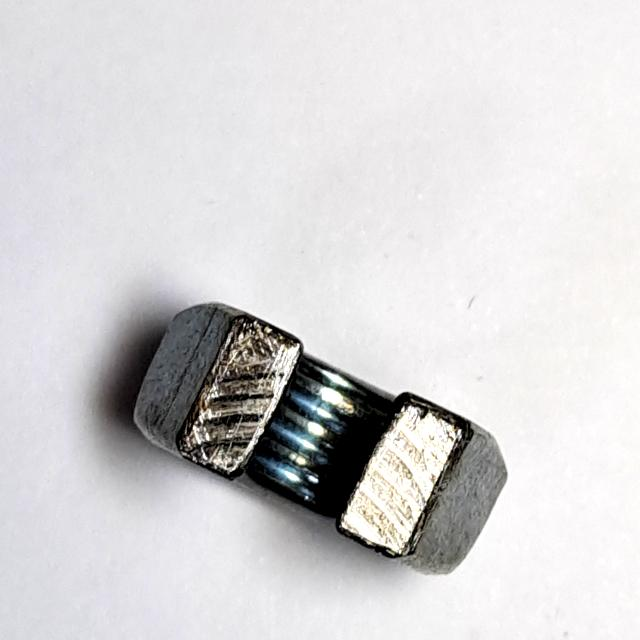Side-Fracture: (120, 286, 518, 592)
